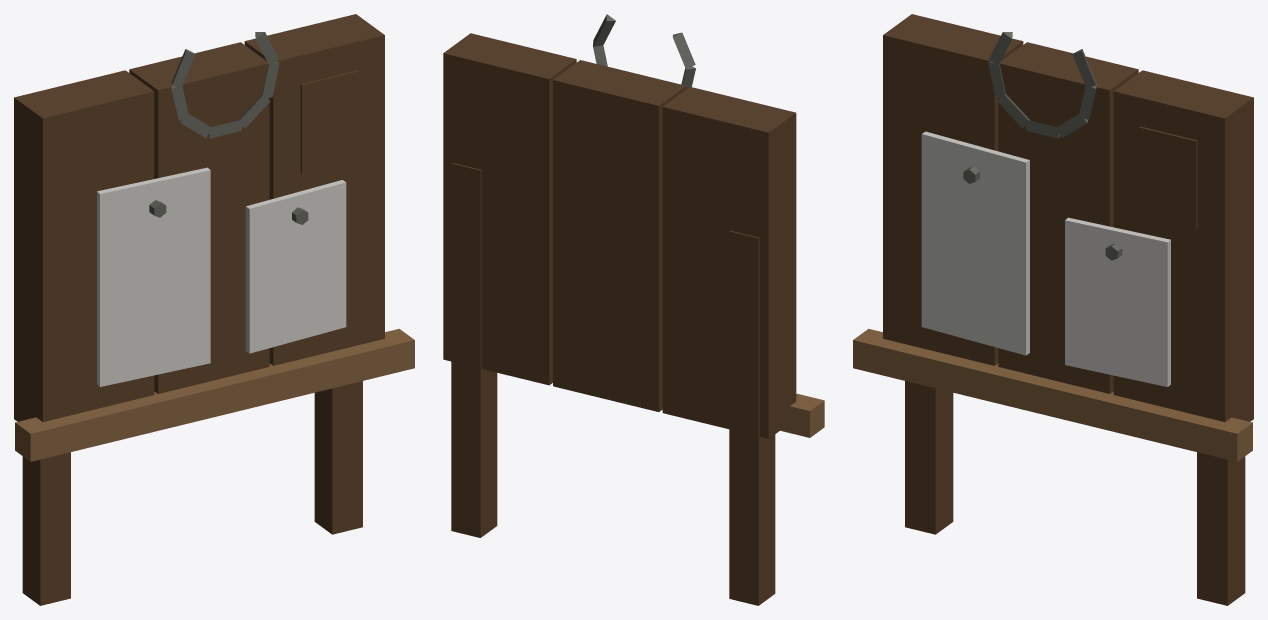
The model's file is smithy-board.glb.
3 views of the same model, side by side, from view 1: azimuth 30°, elevation 25°; view 2: azimuth 150°, elevation 25°; view 3: azimuth 330°, elevation 25° (orthographic). The views are drawn at different scales.
Parts seen in each view (by area): view 1: smithy-board; view 2: smithy-board; view 3: smithy-board.
Part boxes in pixels (box(x1,y1,x2,y2)): smithy-board: box(14, 14, 414, 605); smithy-board: box(443, 14, 824, 605); smithy-board: box(853, 14, 1253, 605).
Bounding box in the file's own units: 0.5 × 0.6743 × 0.1025.
